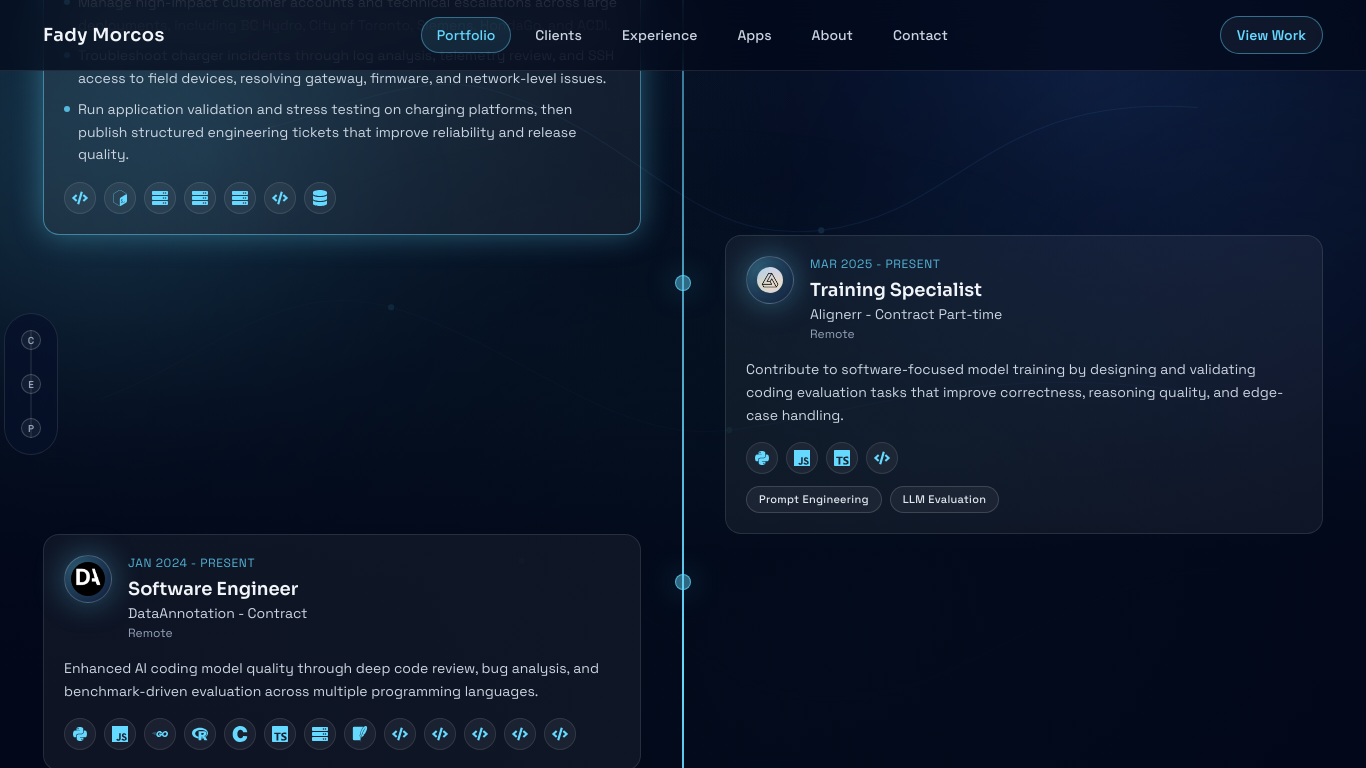
Test: Portfolio redesign › experience cards expand on hover/focus and support keyboard toggle
The width and height of the screenshot is (1366, 768).
(page scrolled)
Hover over the button "Training Specialist".
mouse_move(1024, 384)  # box [725,235,1323,534]
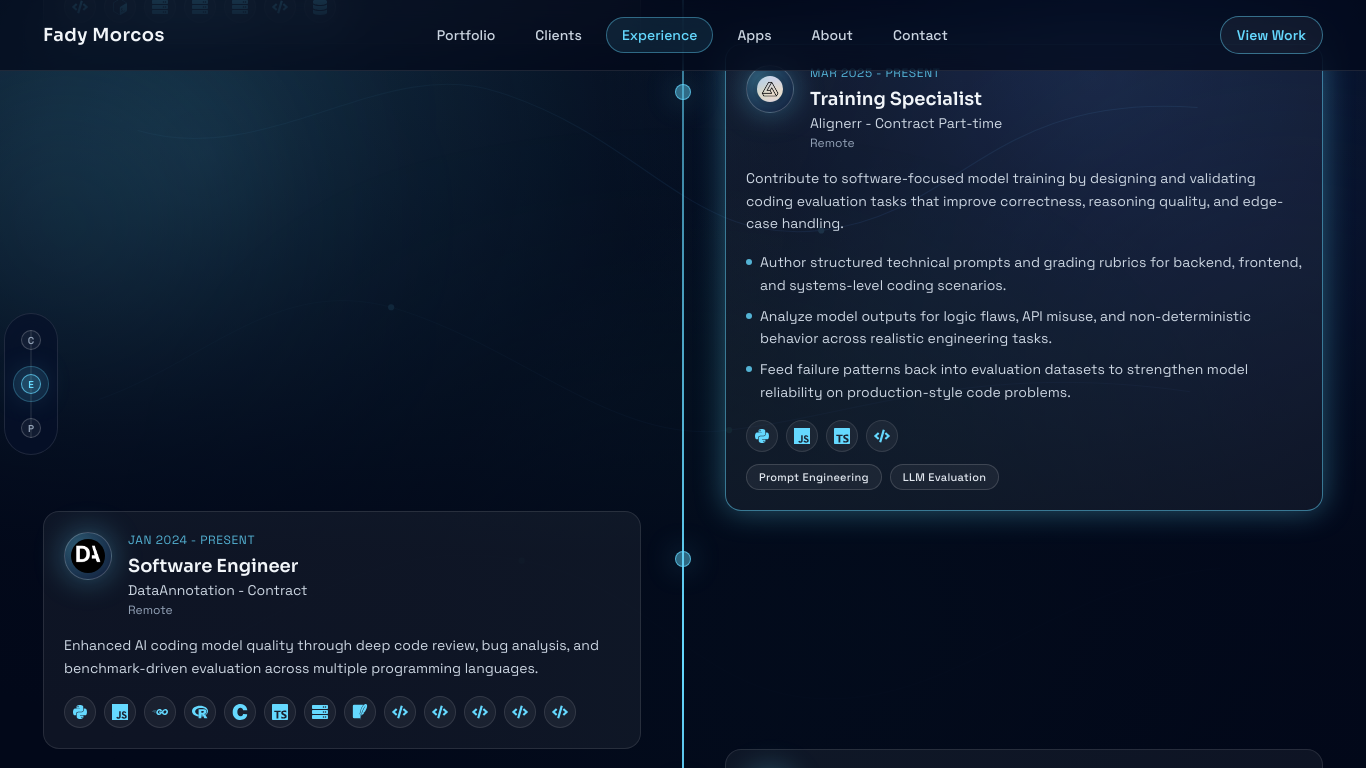
Now the button "Training Specialist" is expanded
Move the pointer off the button "Training Specialist", box [725,44,1323,511]
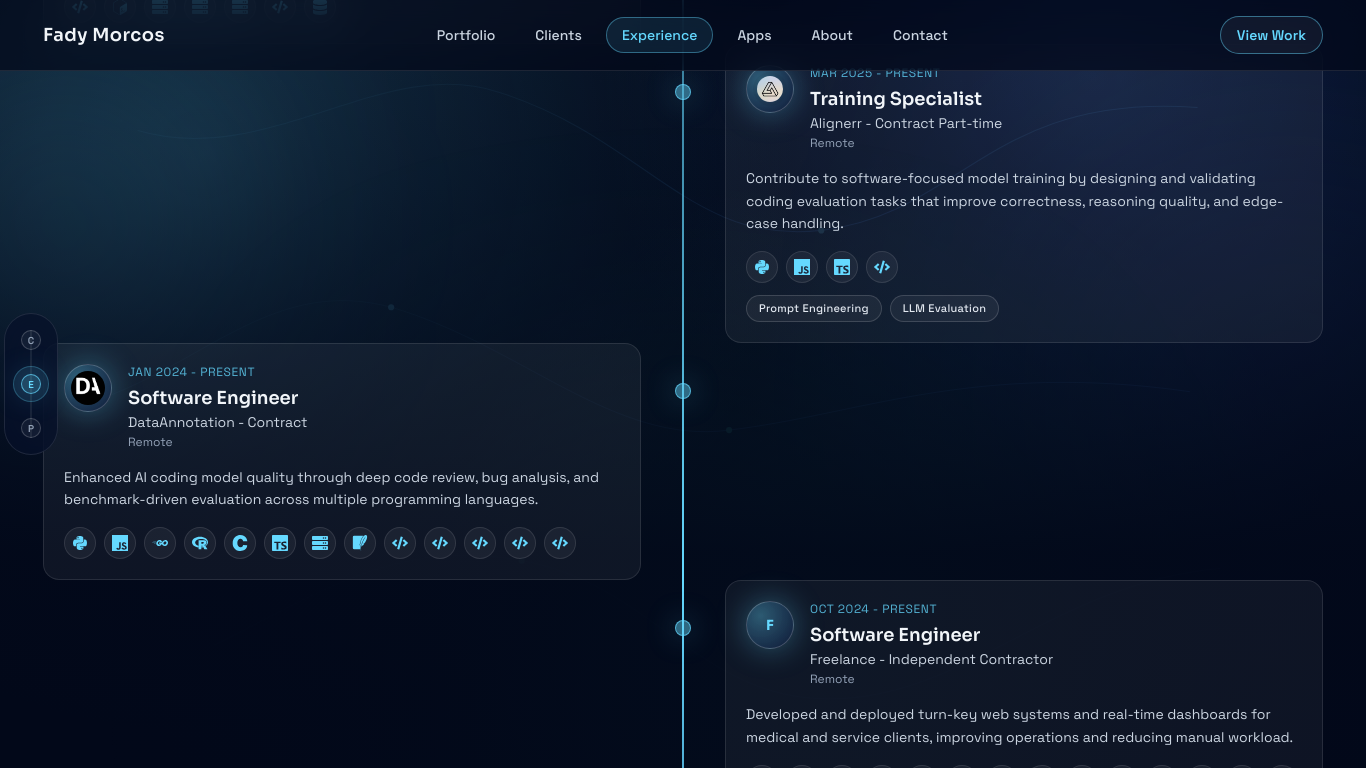
Now the button "Training Specialist" is collapsed
Click the button "Training Specialist".
click(1024, 193)  # box [725,44,1323,343]
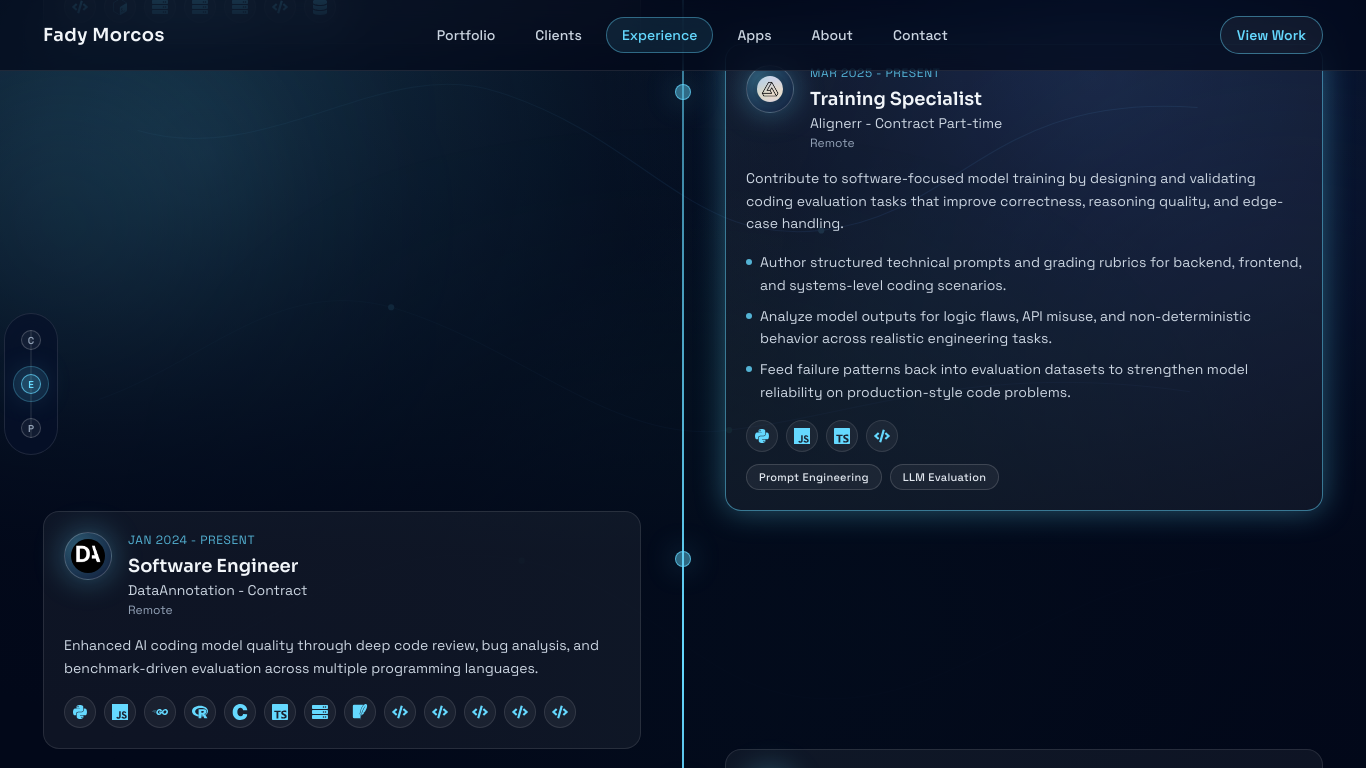
Now the button "Training Specialist" is expanded, box [725,44,1323,511]
Press Enter
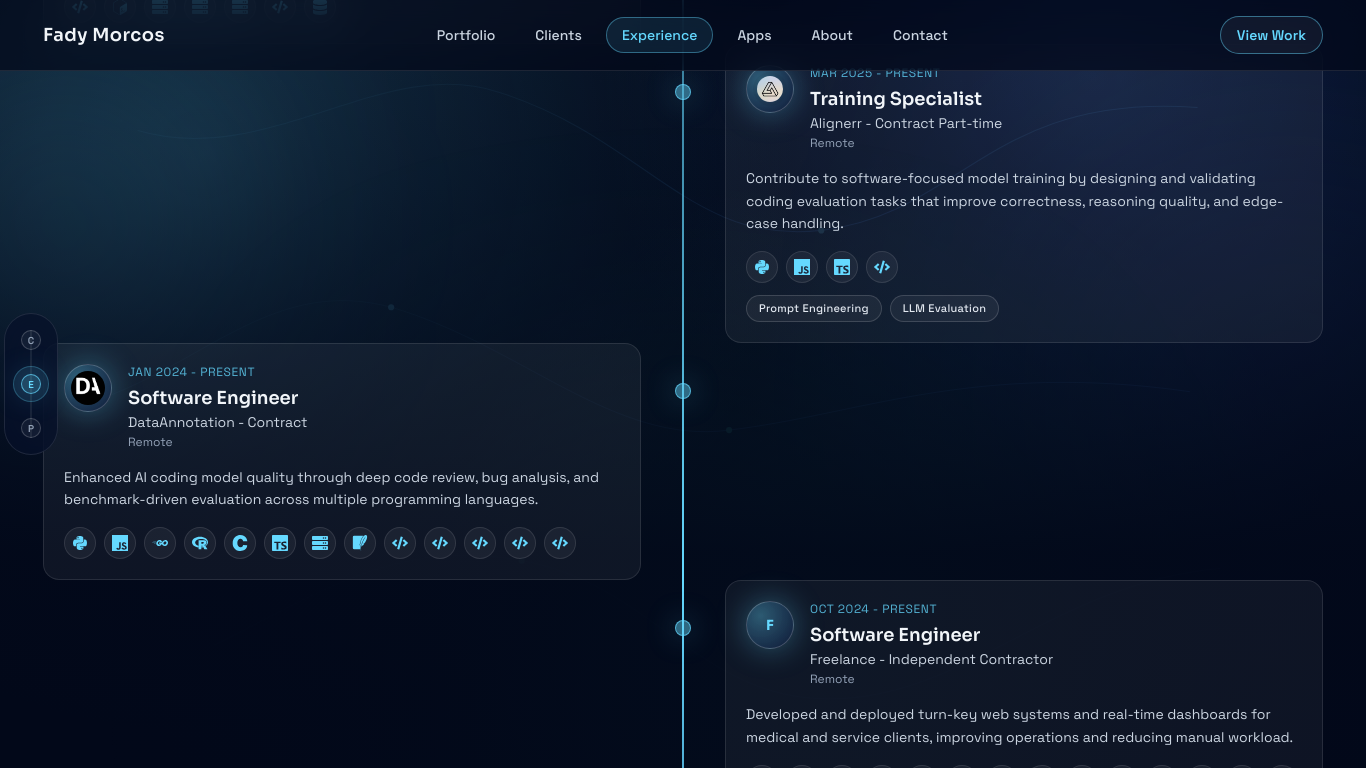
Now the button "Training Specialist" is collapsed, box [725,44,1323,343]
